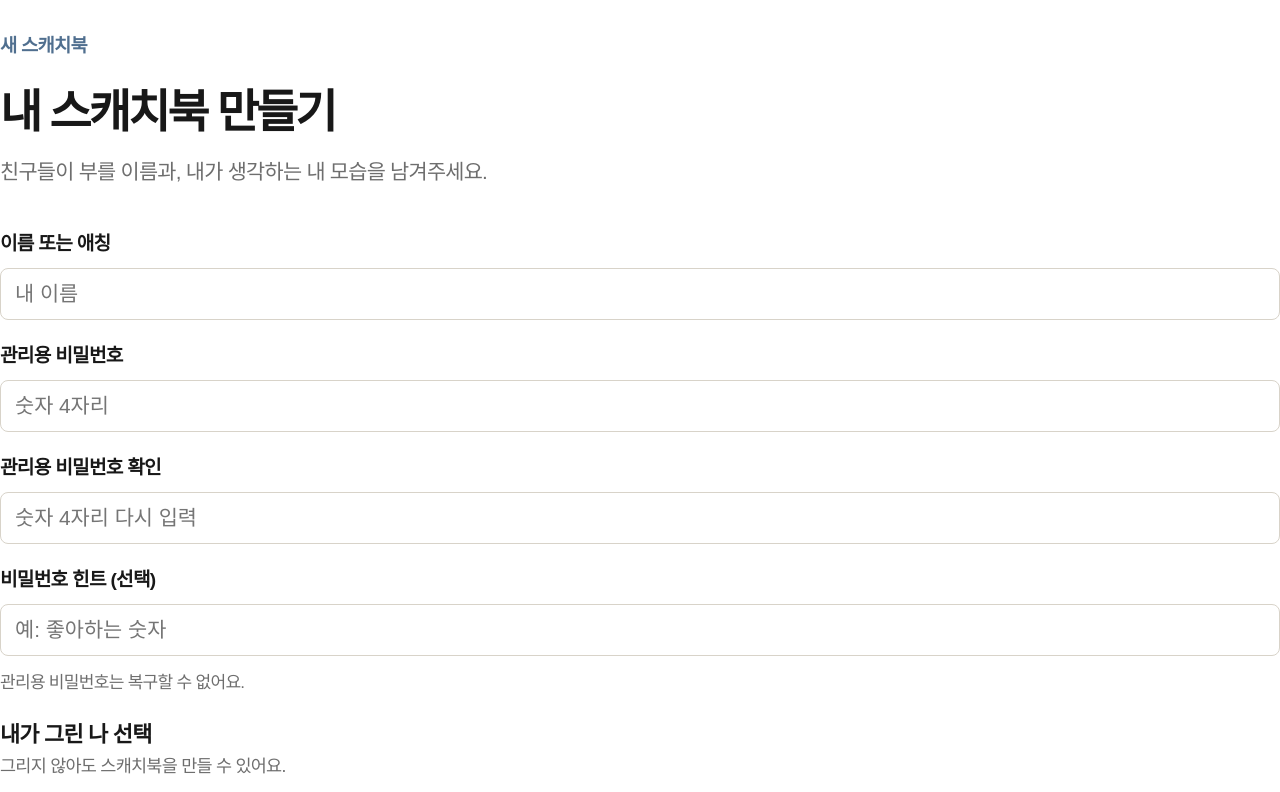
Test: CreateSketchbookForm 생성 초안과 PIN 검사 › 생성에 성공하면 세션 초안을 지운다
Step 1. Type "해비" into the field labelled "이름 또는 애칭" → (640, 294), box [0,268,1279,320]
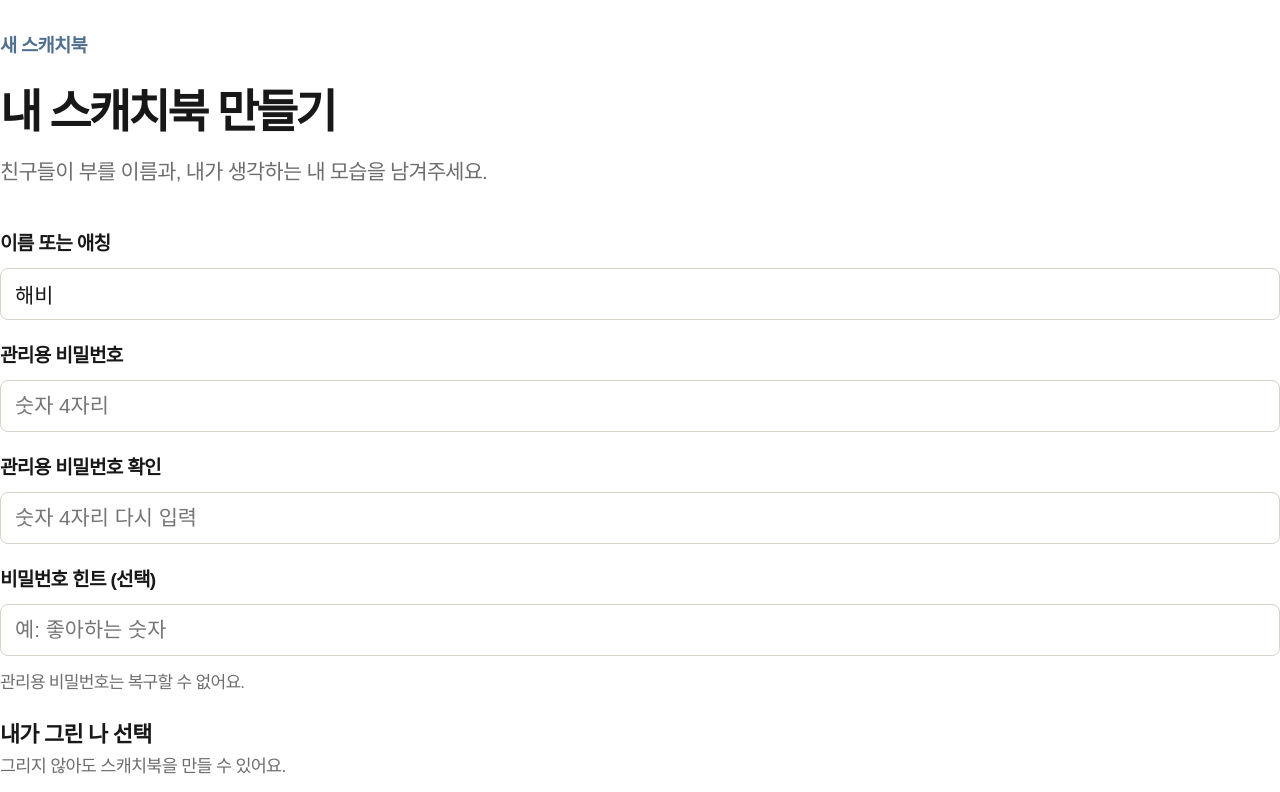
Step 2. Type "1234" into the password field labelled "관리용 비밀번호" → (640, 406), box [0,380,1279,432]
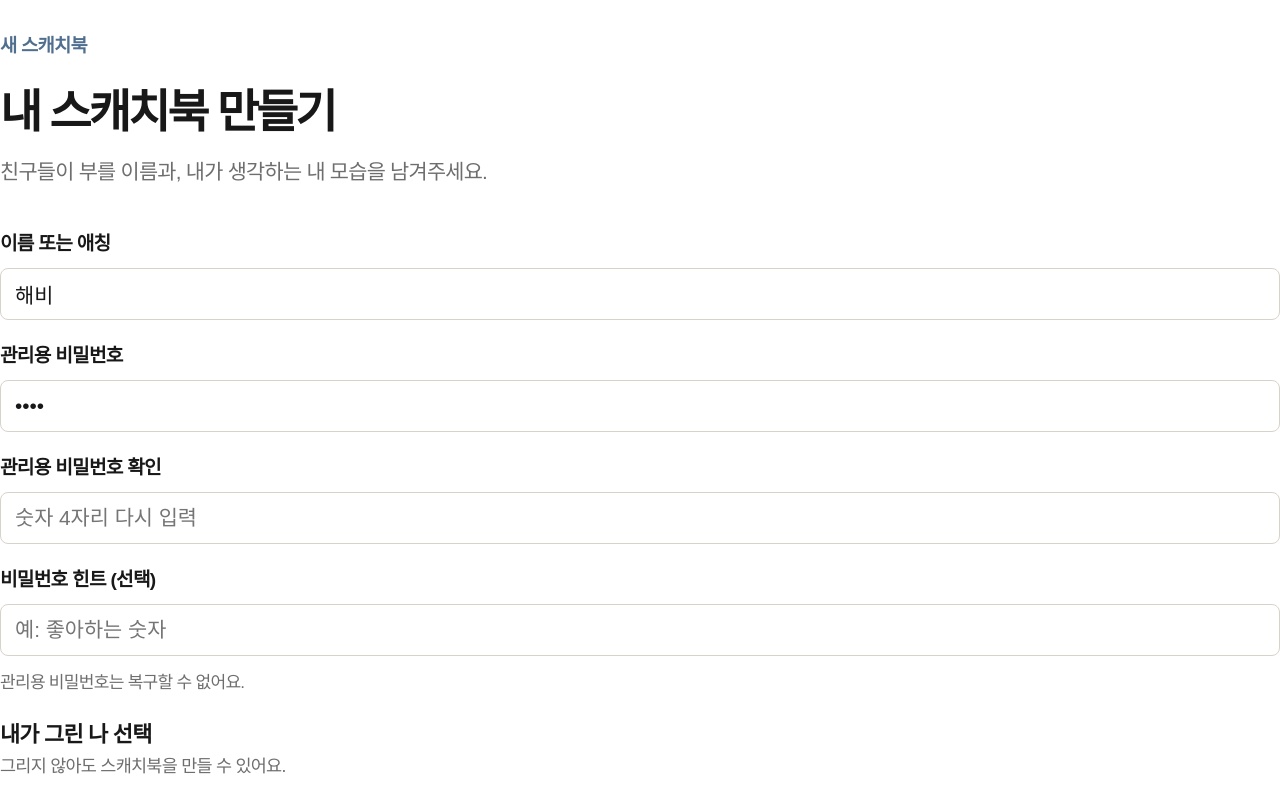
Step 3. Type "1234" into the password field labelled "관리용 비밀번호 확인" → (640, 518), box [0,492,1279,544]
(page scrolled)
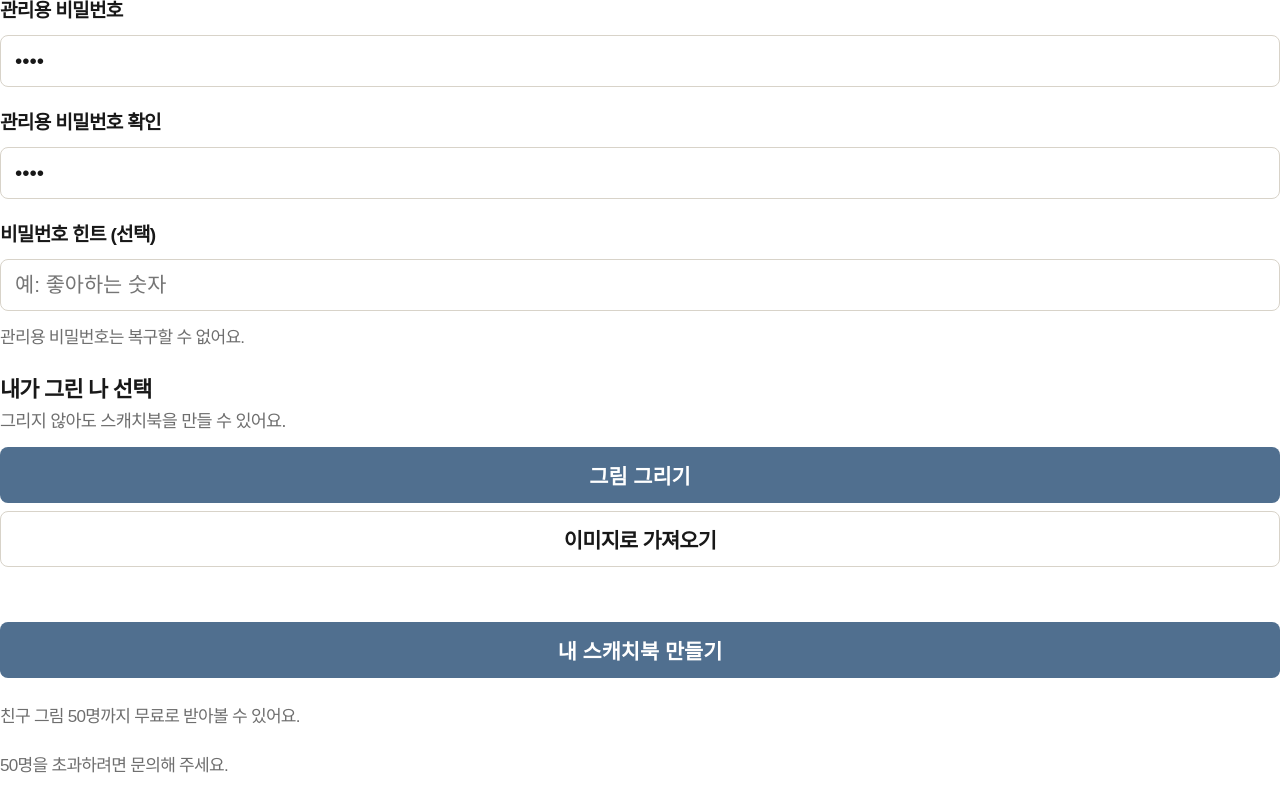
Step 4. Click the button "내 스캐치북 만들기" → (640, 650), box [0,622,1279,678]
(page scrolled)
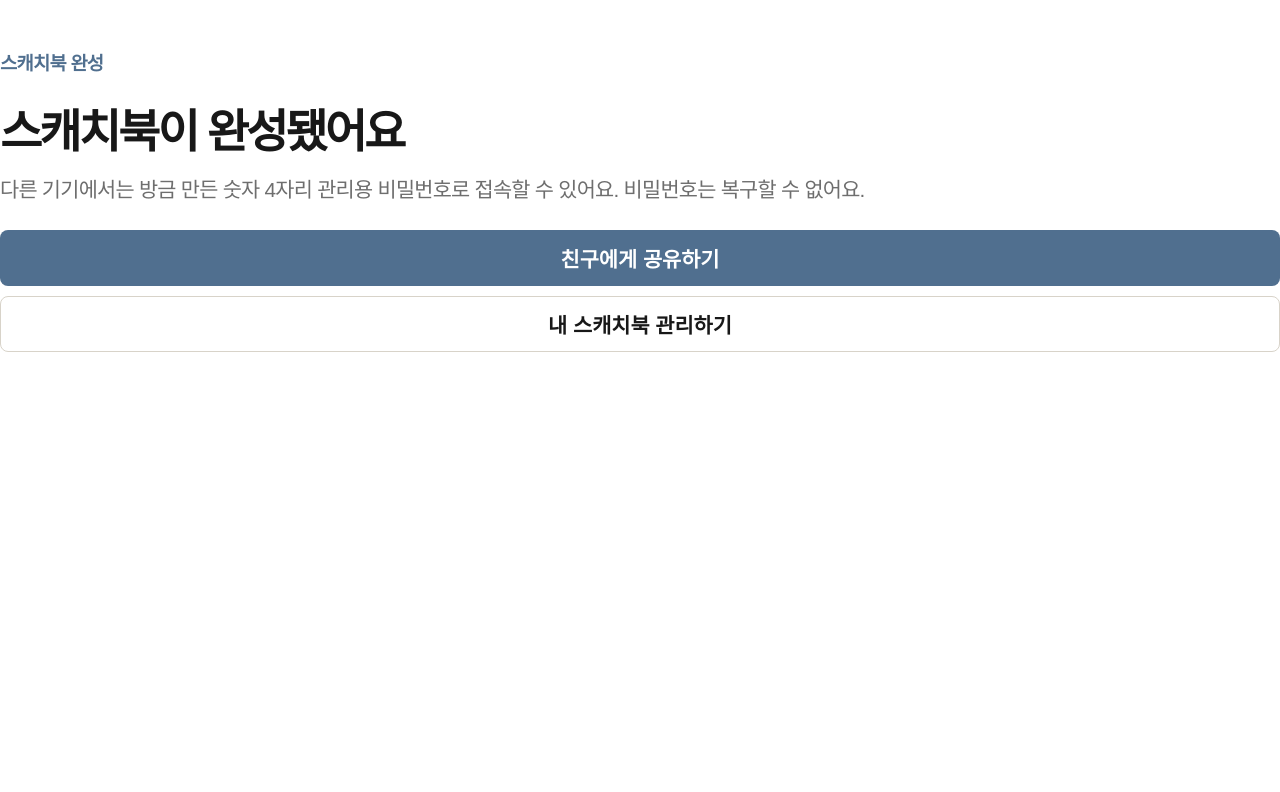
Expected: the heading "스캐치북이 완성됐어요" is shown, [0,107,403,158]
